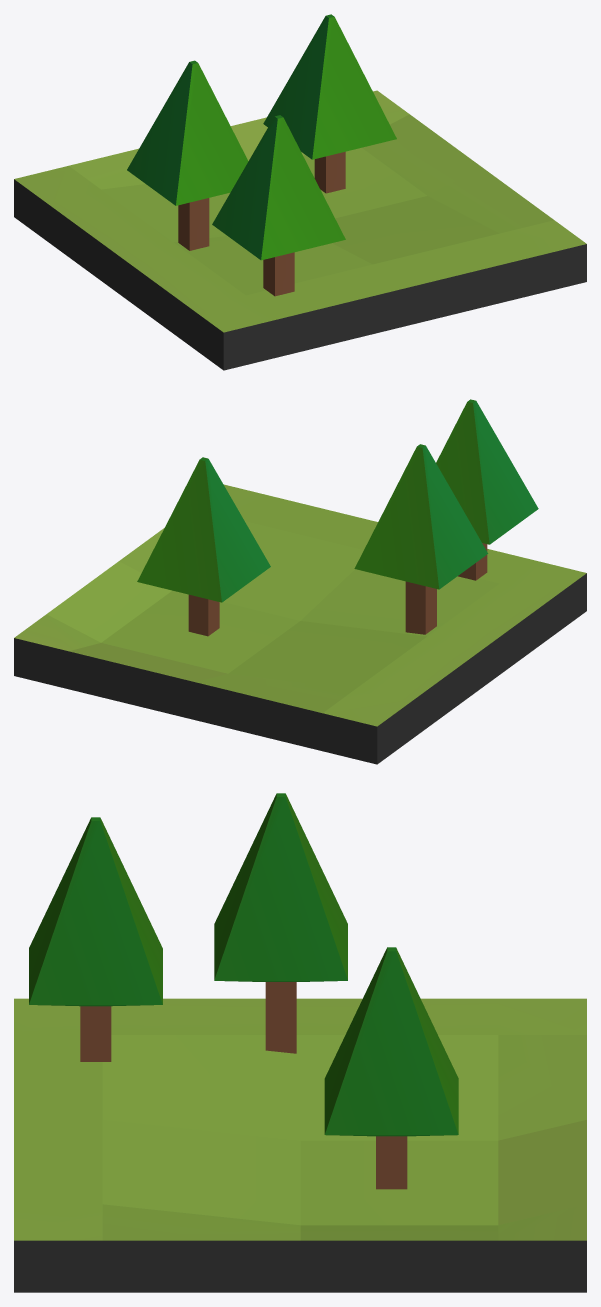
File: trees_2.fbx
The picture shows the model from 3 angles, top to bottom: view 1: azimuth 30°, elevation 25°; view 2: azimuth 150°, elevation 25°; view 3: azimuth 270°, elevation 25°; orthographic projection. The views are drawn at different scales.
Visible parts, largest first — view 1: block; view 2: block; view 3: block.
Part boxes in pixels (box(x1,y1,x2,y2)): block: box(14, 14, 586, 370); block: box(14, 399, 586, 764); block: box(14, 793, 586, 1292).
Bounding box in the file's own units: 200 × 200 × 116.
Materials: 1 (1 with a texture image).
